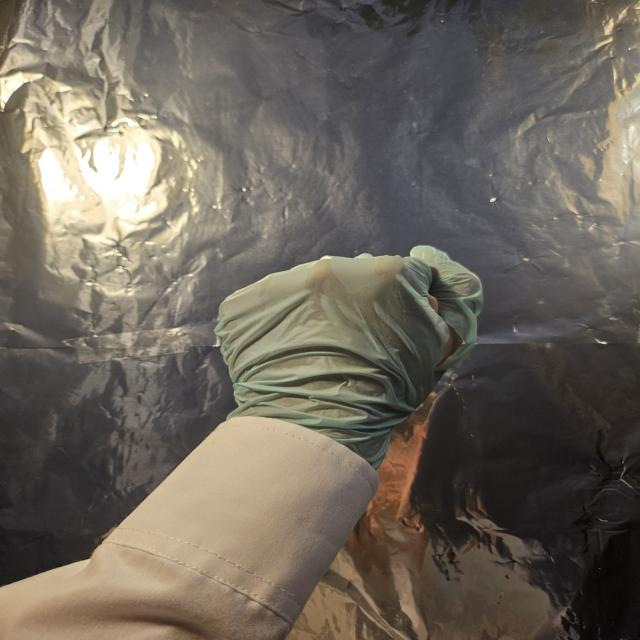gloves_damaged: (209, 243, 483, 462)
